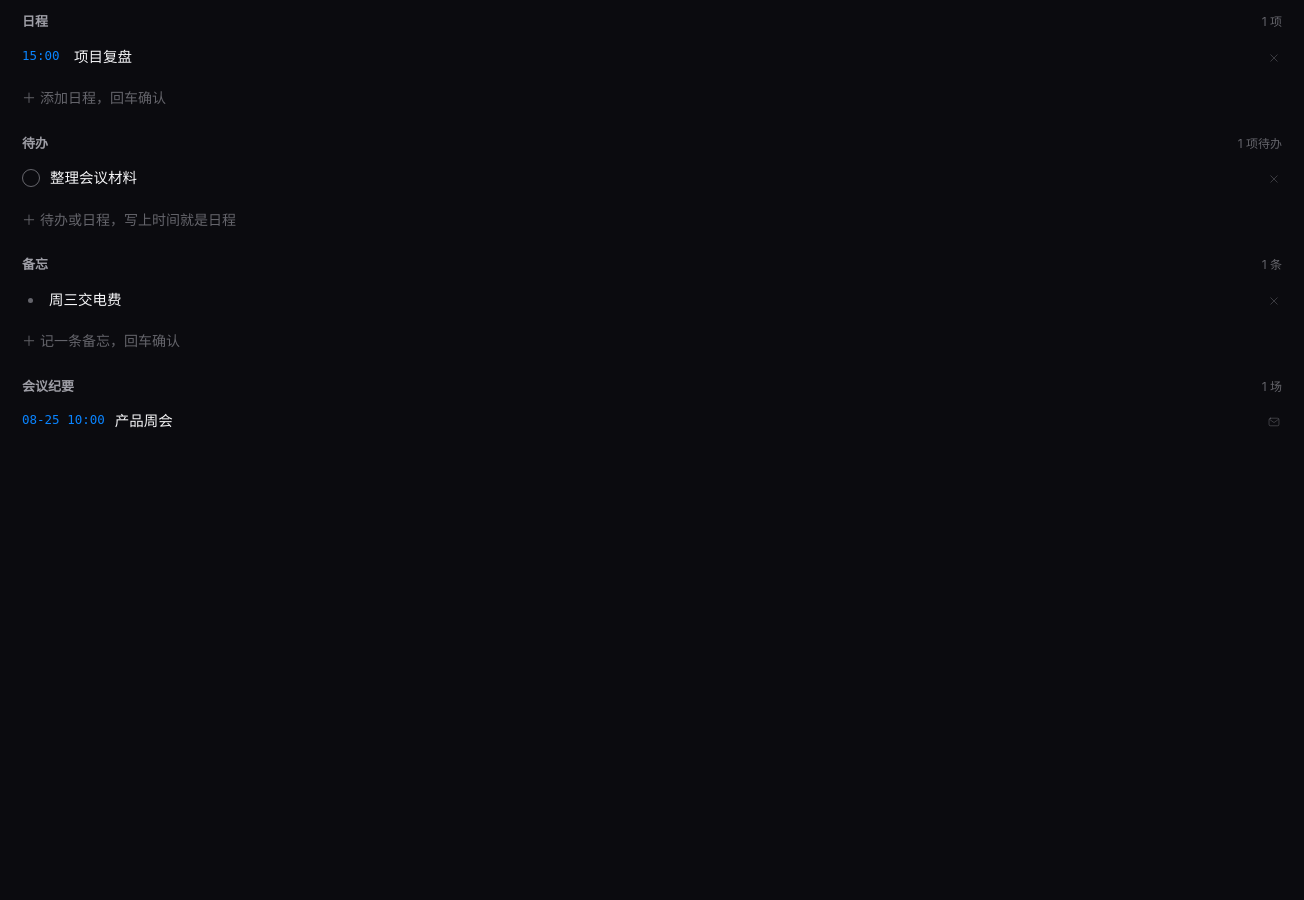
Test case: 会议纪要：导入待办与追问 › 导入待办：调接口并刷新任务台
Click the button titled "查看纪要" at (144, 420), box [115, 410, 1252, 432]
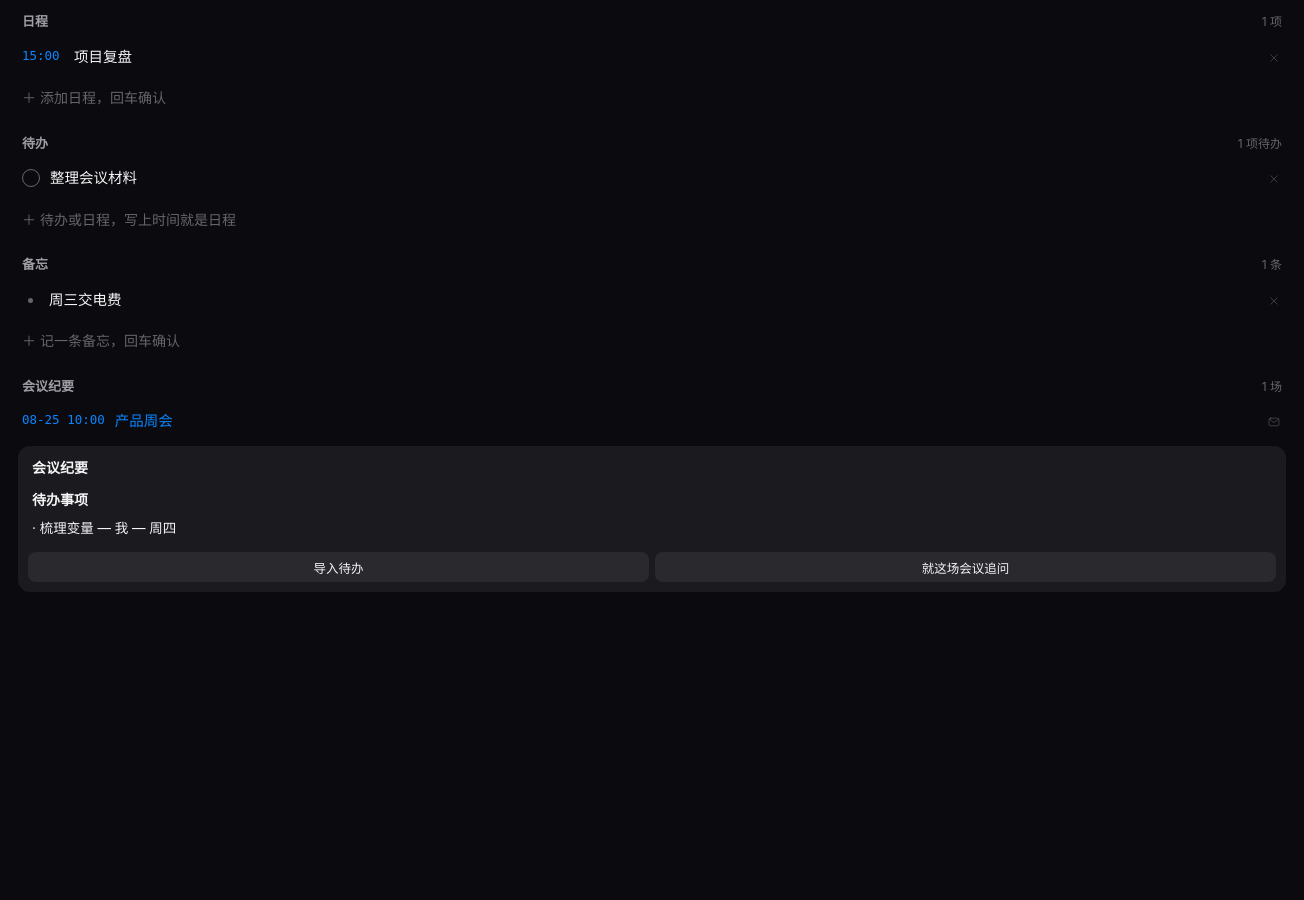
Click the button "导入待办" at (338, 567), box [28, 552, 649, 582]
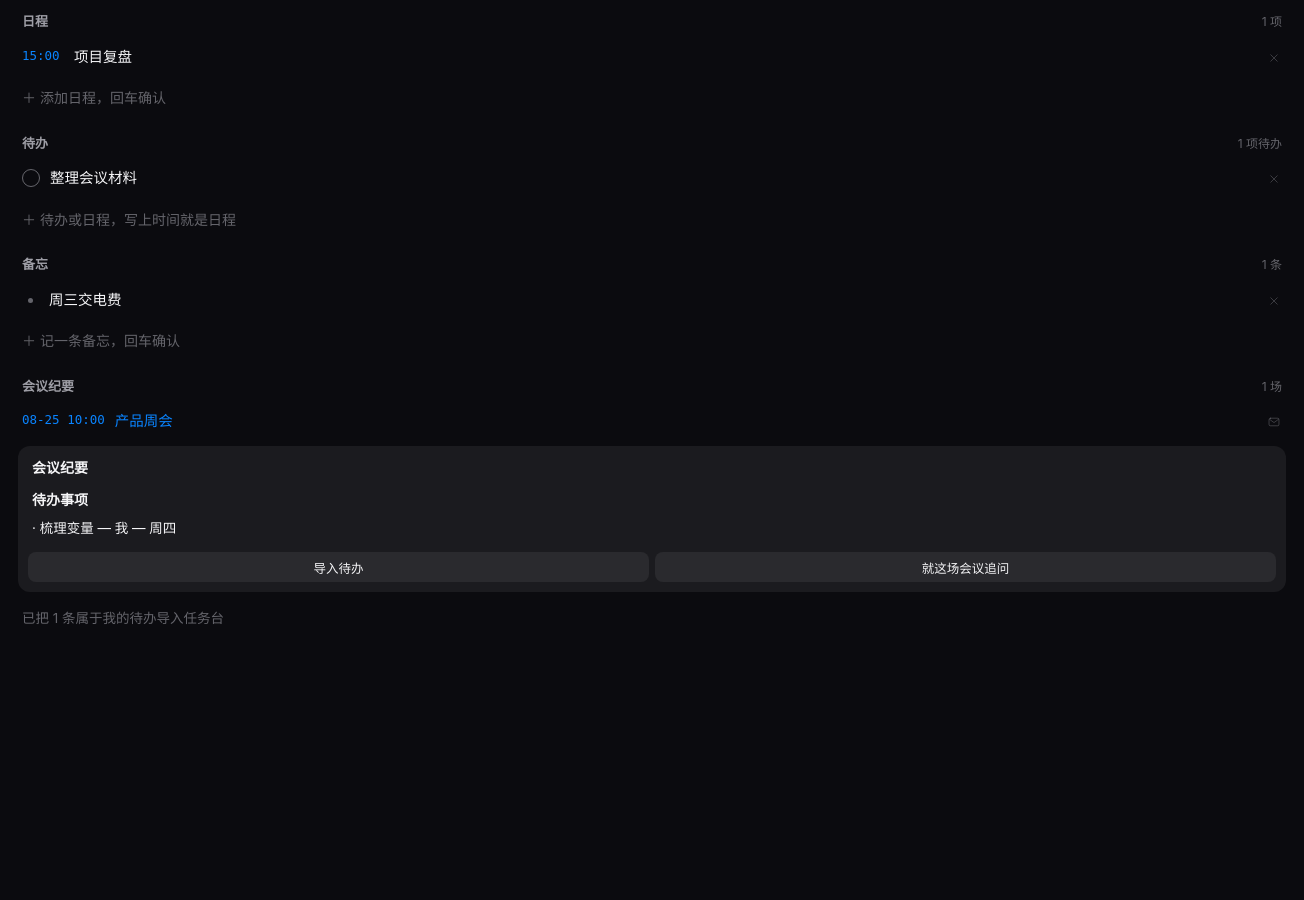
Now the message shows "1 条", box [22, 610, 224, 626]
